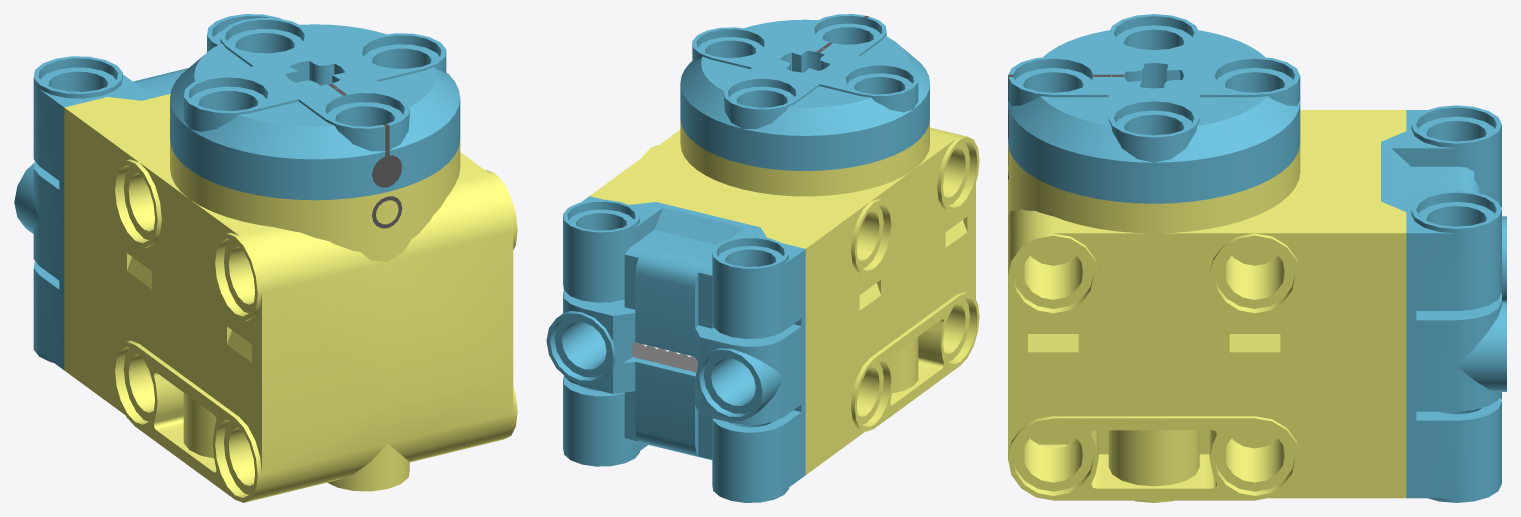
The picture shows the model from 3 angles, left to right: view 1: azimuth 30°, elevation 25°; view 2: azimuth 150°, elevation 25°; view 3: azimuth 270°, elevation 25°; orthographic projection. The views are drawn at different scales.
Parts seen in each view (by area): view 1: 63565.dat, u9534p01.dat, 65028.dat, 65029.dat, u9537p01.dat; view 2: 65029.dat, 63565.dat, u9534p01.dat, 65028.dat, u9537p01.dat, 63565c01.dat; view 3: 63565.dat, u9534p01.dat, 65029.dat, 65028.dat, u9537p01.dat.
Part boxes in pixels (bbox=[...]): 63565.dat: bbox=[64, 94, 517, 433]; u9534p01.dat: bbox=[170, 17, 460, 200]; 65028.dat: bbox=[64, 257, 517, 502]; 65029.dat: bbox=[14, 14, 281, 369]; u9537p01.dat: bbox=[273, 55, 357, 90]; 65029.dat: bbox=[546, 196, 805, 502]; 63565.dat: bbox=[590, 119, 979, 404]; u9534p01.dat: bbox=[680, 14, 929, 170]; 65028.dat: bbox=[805, 220, 979, 474]; u9537p01.dat: bbox=[769, 46, 841, 76]; 63565c01.dat: bbox=[632, 342, 697, 372]; 63565.dat: bbox=[1008, 110, 1406, 416]; u9534p01.dat: bbox=[1008, 14, 1300, 203]; 65029.dat: bbox=[1381, 105, 1506, 502]; 65028.dat: bbox=[1008, 334, 1406, 502]; u9537p01.dat: bbox=[1111, 57, 1196, 93].
Size of the model in its own units: 0.024 by 0.032 by 0.0396.
